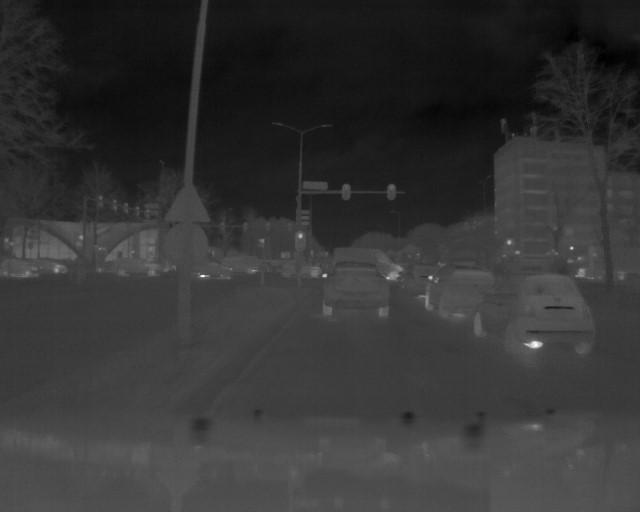car: (474, 272, 599, 360), (421, 263, 500, 323), (320, 261, 394, 321), (331, 247, 408, 284), (400, 264, 445, 300)
